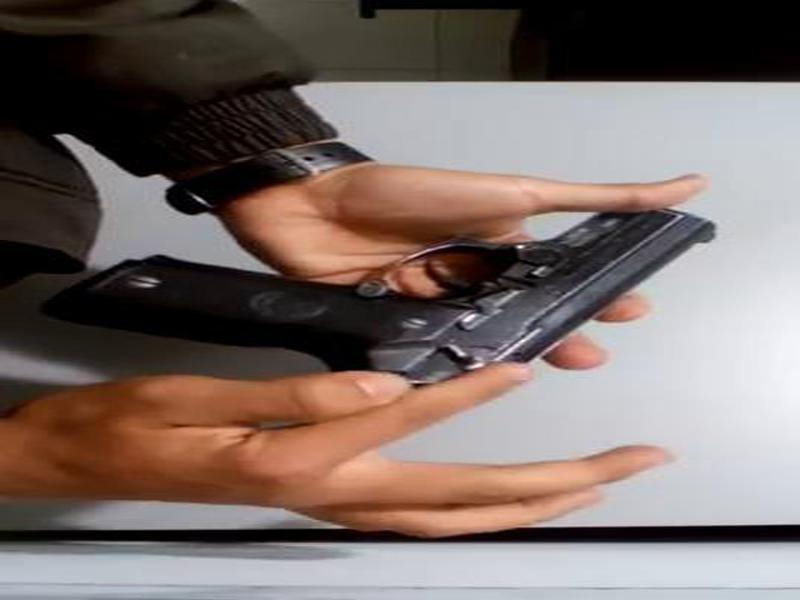Pistola: (47, 206, 693, 378)
